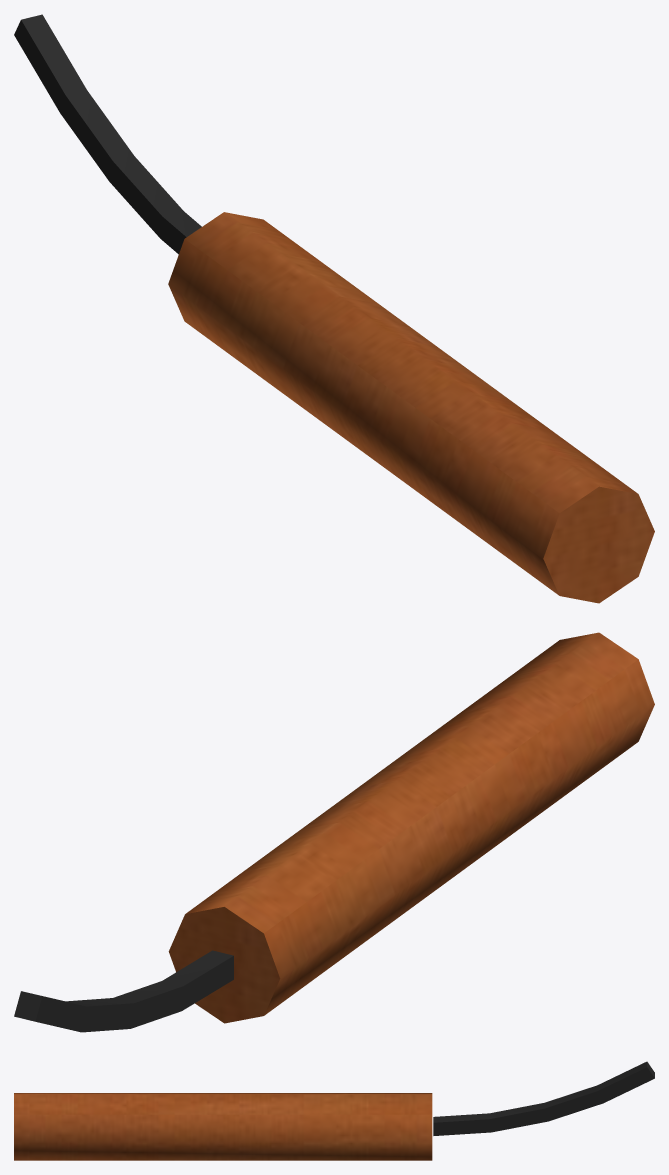
Rendered from dynamitedrop.gltf.
3 views of the same model, one above another, from view 1: azimuth 30°, elevation 25°; view 2: azimuth 150°, elevation 25°; view 3: azimuth 270°, elevation 25° (orthographic). The views are drawn at different scales.
Parts seen in each view (by area): view 1: Cylinder, fuse; view 2: Cylinder, fuse; view 3: Cylinder, fuse.
Part boxes in pixels (x1,y1,x2,y2): Cylinder: (168,212,654,603); fuse: (14,14,201,254); Cylinder: (168,632,654,1023); fuse: (14,950,233,1032); Cylinder: (14,1093,432,1160); fuse: (433,1061,654,1135).
Size of the model in its own units: 0.0696 by 0.1017 by 0.6203.
2 materials, 1 textured.
